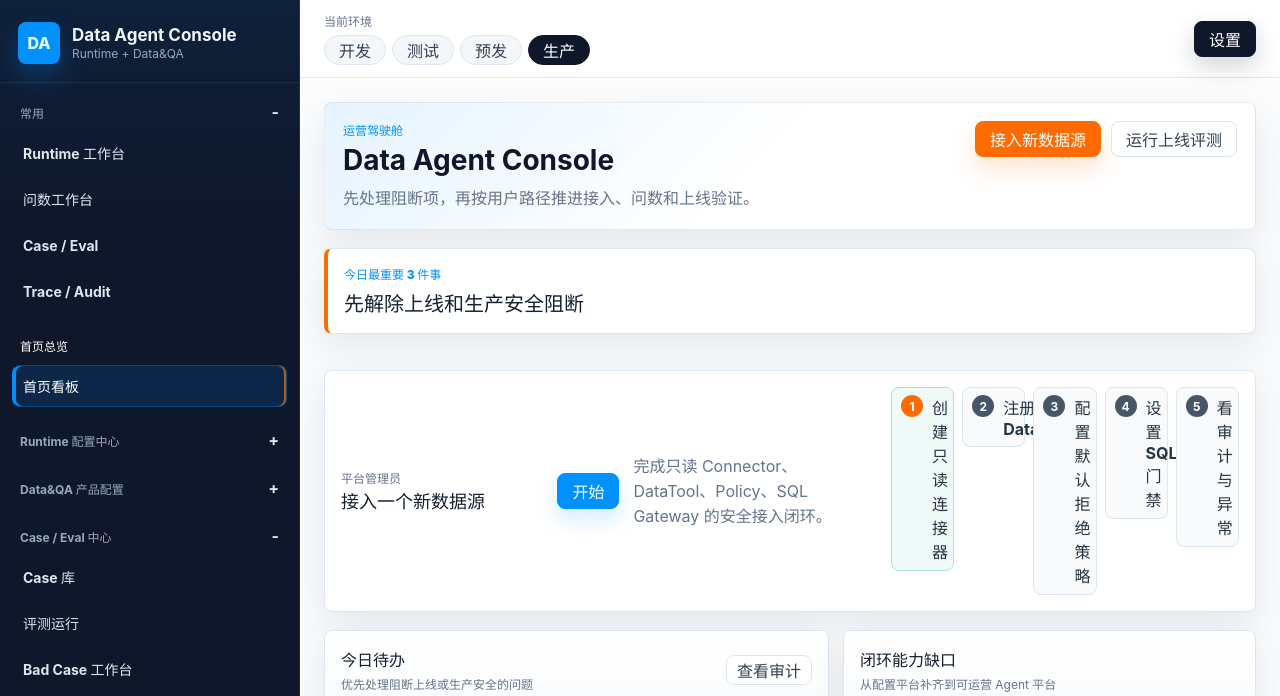
Test: Data Agent Console MVP › filters dashboard journeys by the selected role
The width and height of the screenshot is (1280, 696).
Expected: the heading "接入一个新数据源" is shown, [341,490,485,513]
Expected: the heading "配置 RMA 问数 Agent" is not shown
Click the button "设置" at (1225, 38), box [1194,20,1256,56]
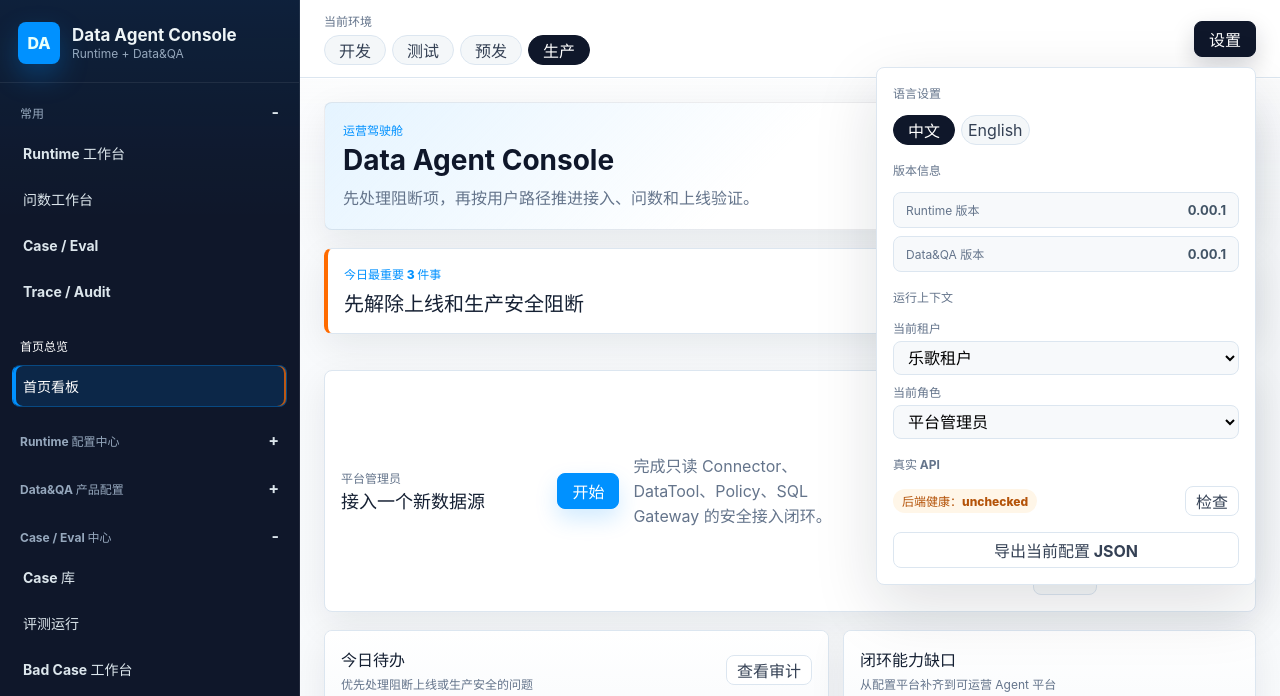
Select "数据产品经理" in the dropdown labelled "当前角色" at (1066, 422), box [893,404,1239,438]
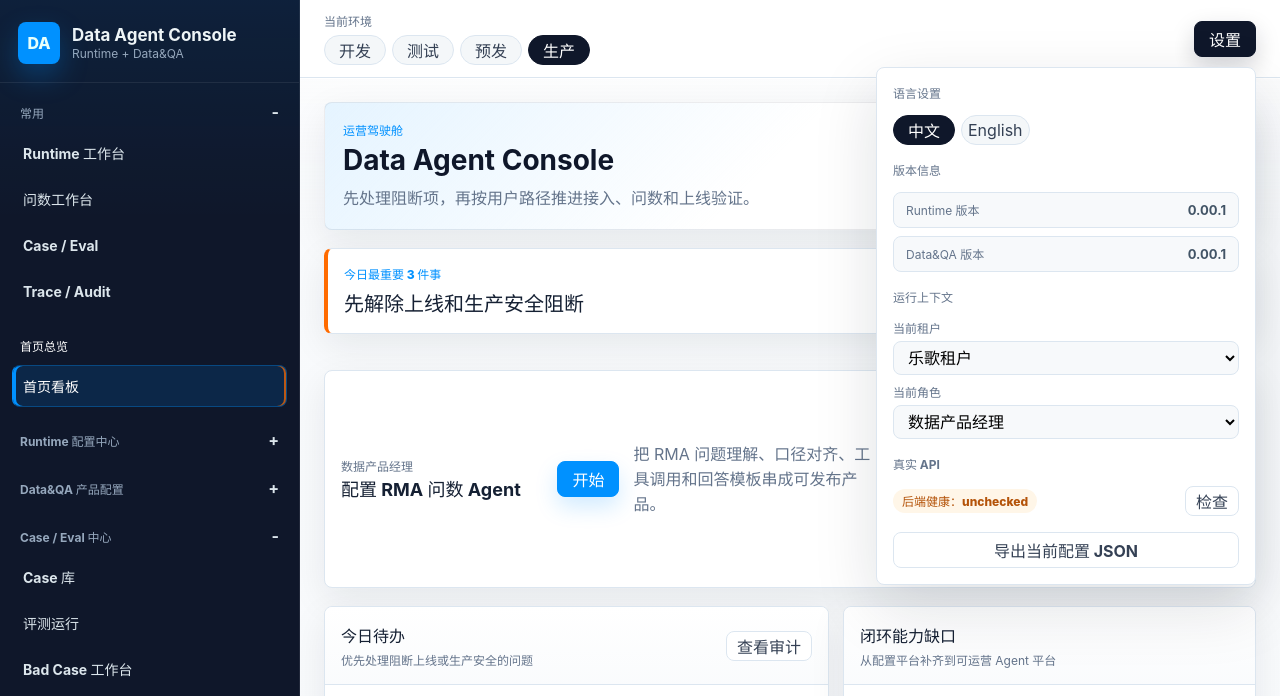
Expected: the text "今日最重要 3 件事" is shown, [344,267,441,282]
Now the element "配置 RMA 问数 Agent" is shown, box [324,370,1256,588]
Now the heading "接入一个新数据源" is gone
Click the button "开始" at (588, 479), box [557,461,619,497]
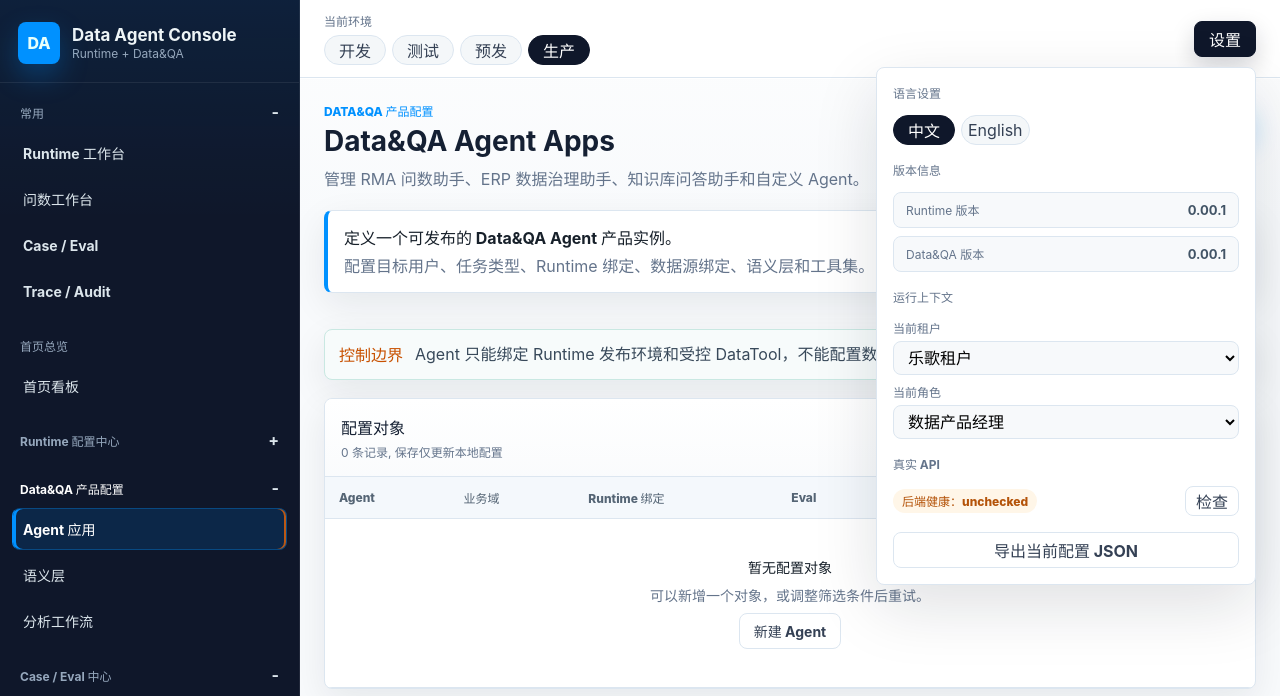
Now the heading "Data&QA Agent Apps" is shown, box [324,124,615,158]
Now the text "定义一个可发布的 Data&QA Agent 产品实例。" is shown, box [344,228,681,248]
